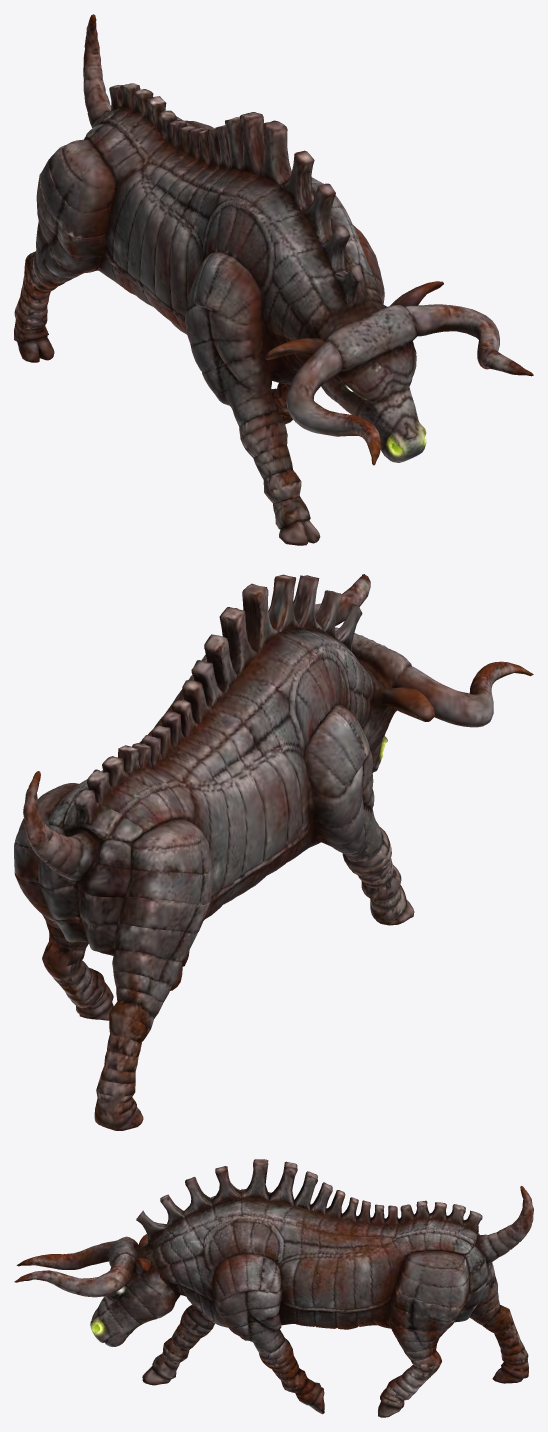
The model's file is MZ4250 - Gorgon_aged 2025.glb.
3 renders of one model, top to bottom at view 1: azimuth 30°, elevation 25°; view 2: azimuth 150°, elevation 25°; view 3: azimuth 270°, elevation 25°, orthographic. The views are drawn at different scales.
Visible parts, largest first — view 1: ORGANIC BASE SPHERE.001; view 2: ORGANIC BASE SPHERE.001; view 3: ORGANIC BASE SPHERE.001.
Boxes of the visible parts, box(x1,y1,x2,y2) form: ORGANIC BASE SPHERE.001: box(14, 14, 533, 545); ORGANIC BASE SPHERE.001: box(14, 574, 533, 1130); ORGANIC BASE SPHERE.001: box(14, 1159, 533, 1417).
Bounding box in the file's own units: 51.64 × 85.46 × 169.
1 material, 1 textured.
